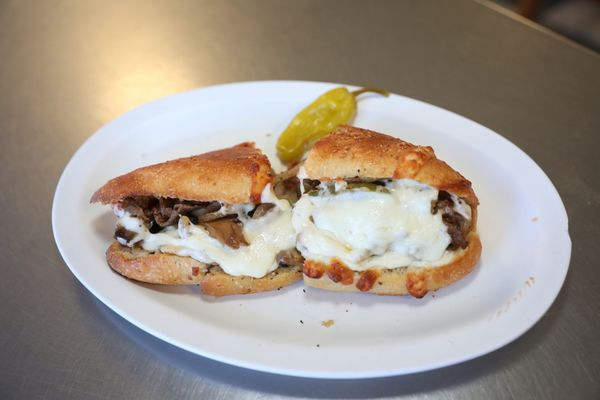soup: (89, 138, 306, 296), (291, 124, 482, 298)
